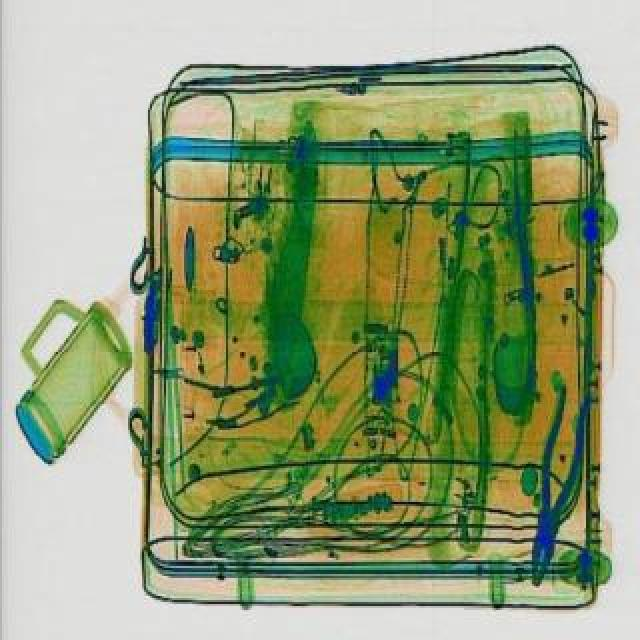wrench: (514, 382, 594, 586)
